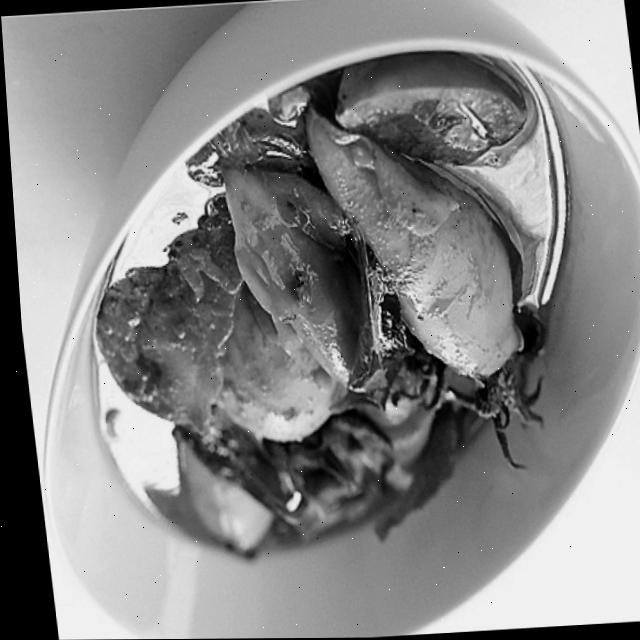熟制海鲜: (1, 11, 640, 640)
